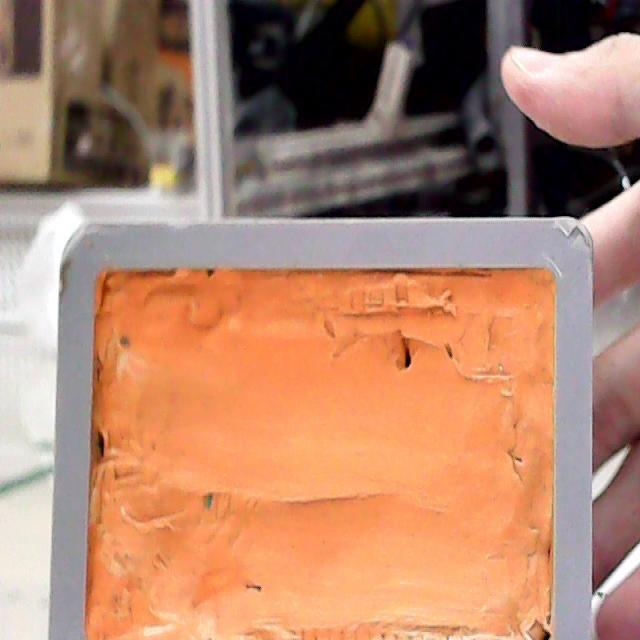block: (47, 215, 598, 640)
